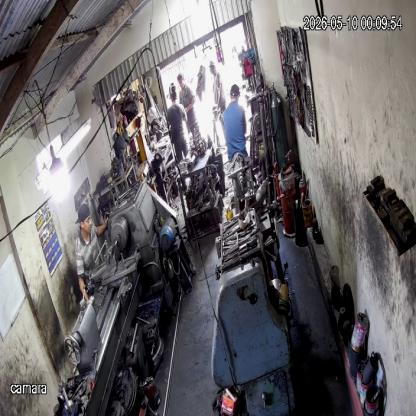sin_lentes: (83, 215, 92, 226)
